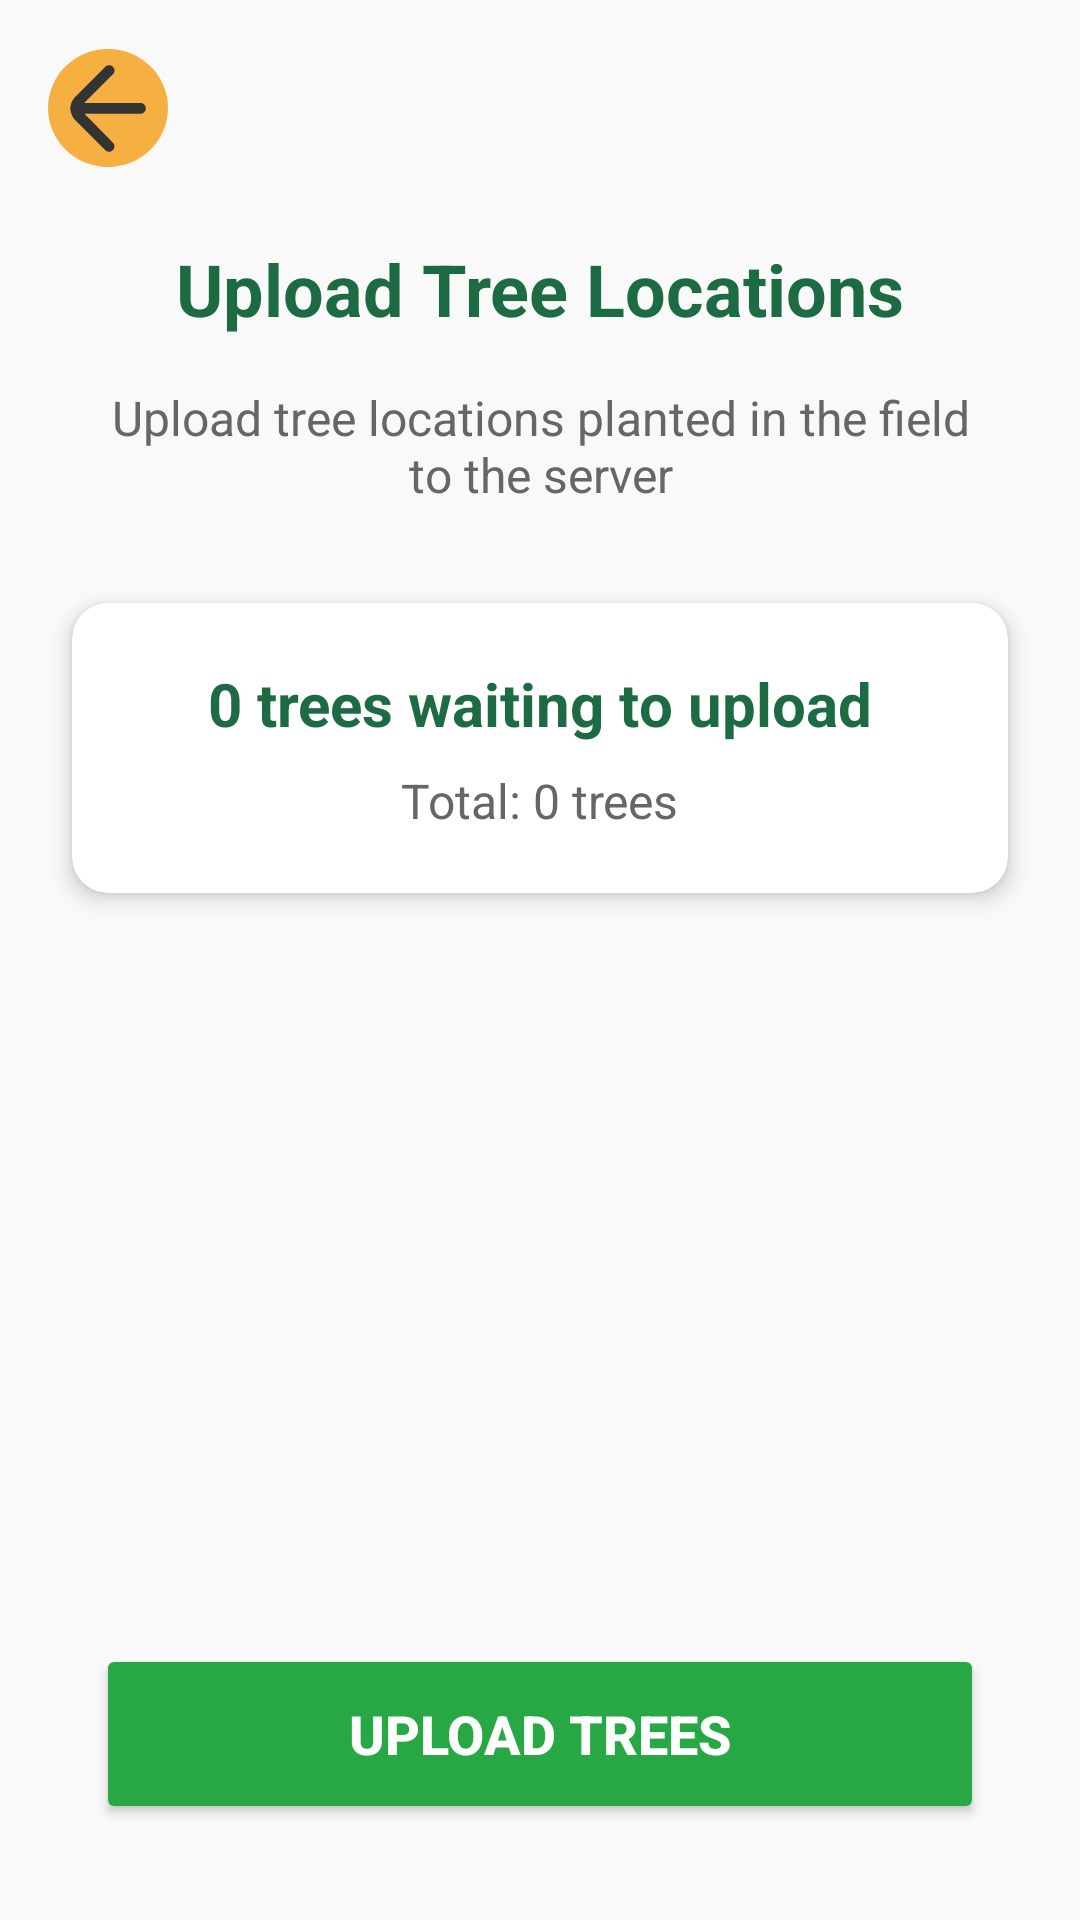

Point at icon controls on the screen. Image size 1080×1920, points as [x,y].
back arrow: [108,108]
